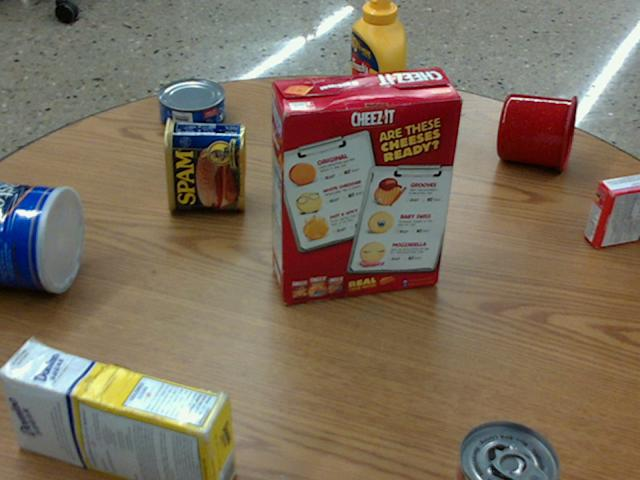cracker_box: (270, 66, 462, 302)
gelatin_box: (585, 176, 639, 249)
master_chef_can: (0, 182, 86, 291)
mug: (498, 93, 576, 171)
mustard_bottle: (348, 0, 404, 150)
potted_meat_can: (164, 117, 244, 209)
sugar_box: (0, 341, 235, 479)
tomato_soup_can: (457, 419, 560, 479)
tuna_fish_can: (158, 76, 226, 130)
